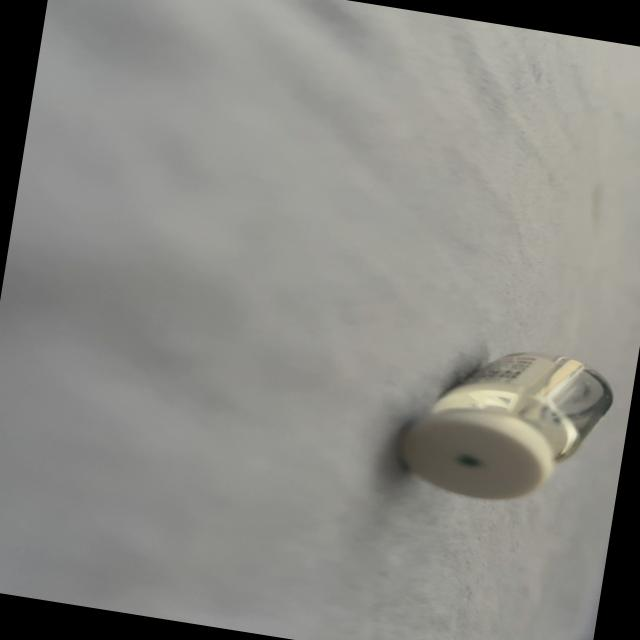fentanl_citrat: (394, 335, 614, 514)
